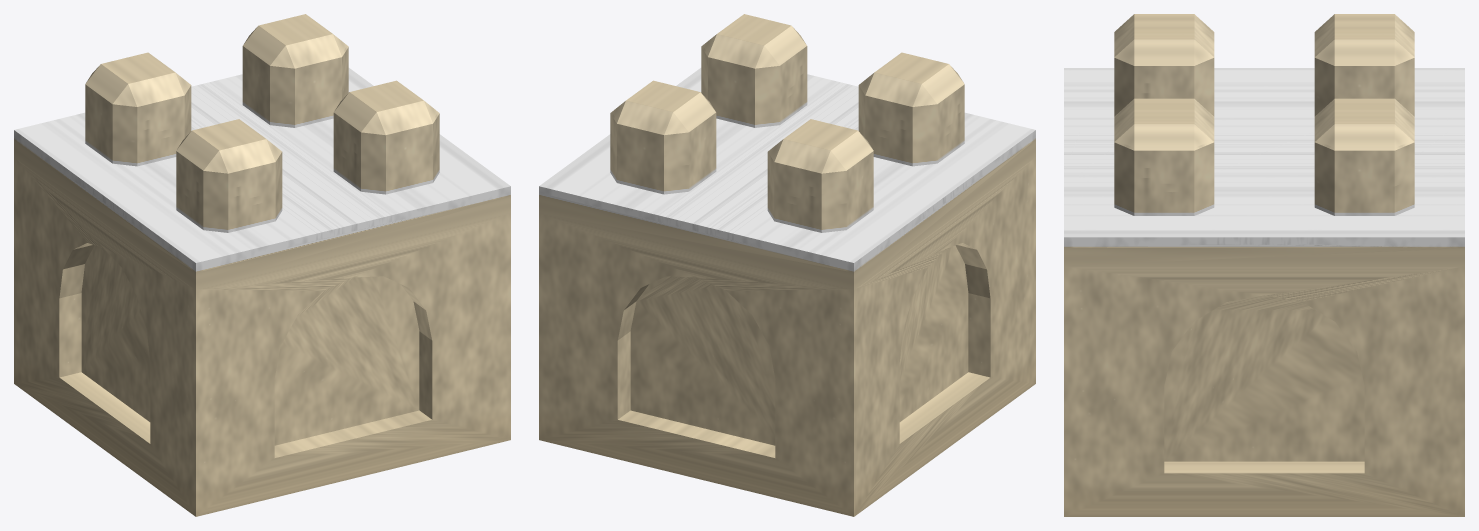
3 views of the same model, side by side, from view 1: azimuth 30°, elevation 25°; view 2: azimuth 150°, elevation 25°; view 3: azimuth 270°, elevation 25° (orthographic). The views are drawn at different scales.
Visible parts, largest first — view 1: wall; view 2: wall; view 3: wall.
Boxes of the visible parts, x1,y1,x2,y2 form: wall: (14, 14, 510, 516); wall: (539, 14, 1035, 516); wall: (1064, 14, 1464, 516).
Bounding box in the file's own units: 1 × 1 × 1.
1 material, 1 textured.
